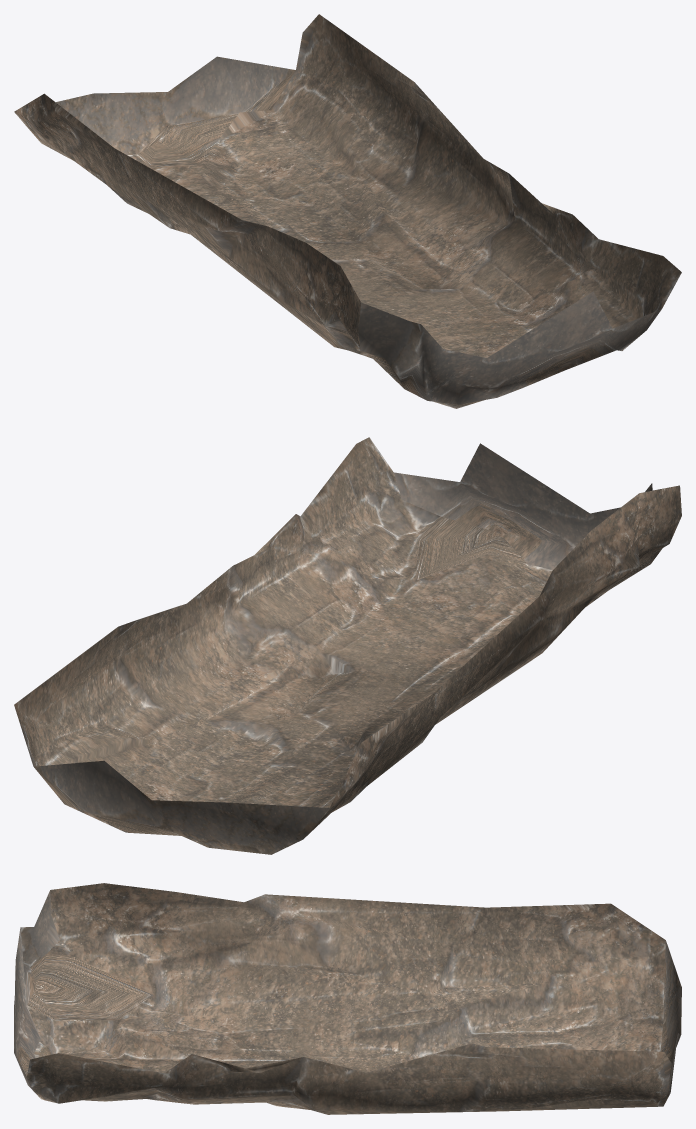
File: Rock02_Shadow2.fbx
The picture shows the model from 3 angles, top to bottom: view 1: azimuth 30°, elevation 25°; view 2: azimuth 150°, elevation 25°; view 3: azimuth 270°, elevation 25°; orthographic projection. The views are drawn at different scales.
Visible parts, largest first — view 1: Rock02__66_; view 2: Rock02__66_; view 3: Rock02__66_.
Part boxes in pixels (left/top/right/bottom): Rock02__66_: left=14, top=14, right=681, bottom=408; Rock02__66_: left=14, top=437, right=681, bottom=854; Rock02__66_: left=14, top=883, right=681, bottom=1114.
Bounding box in the file's own units: 1.01 × 0.4688 × 2.05.
